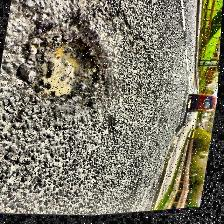pothole: (6, 9, 126, 113)
